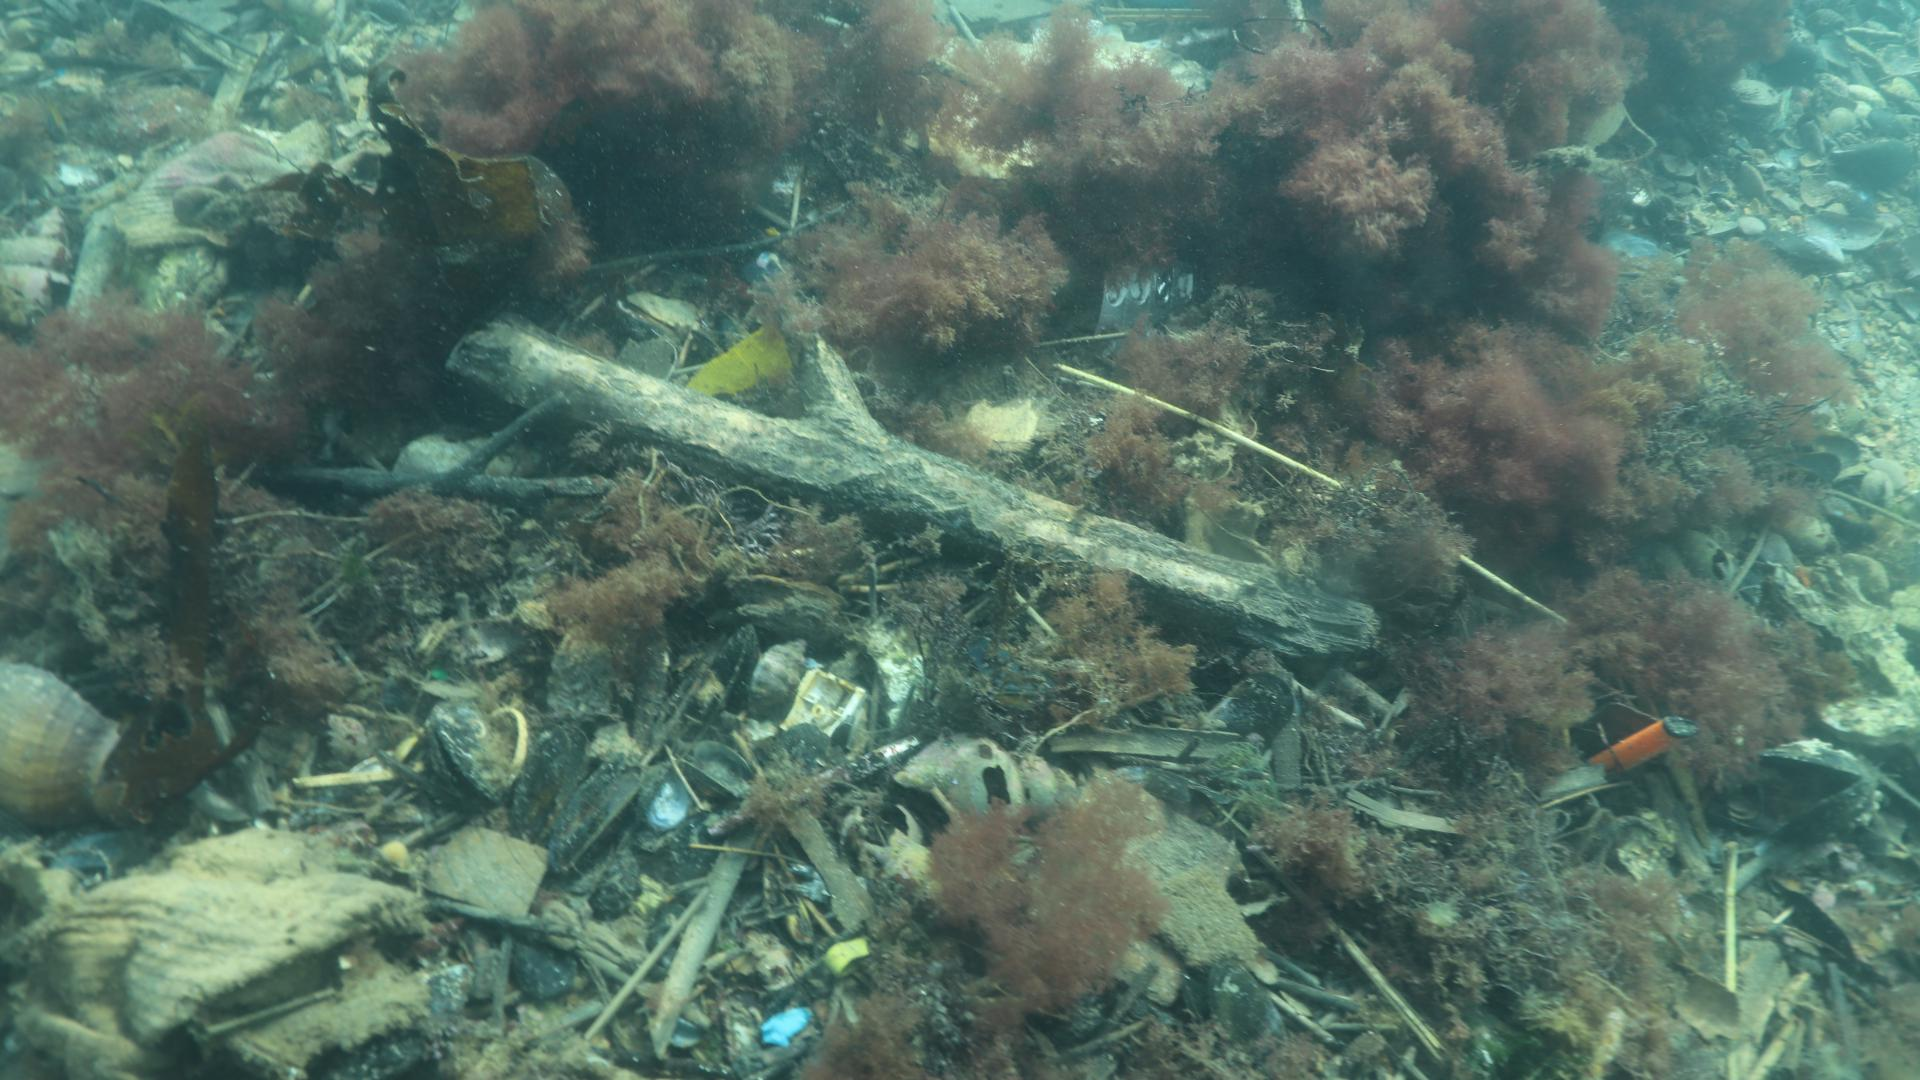wood: (440, 309, 1382, 659)
